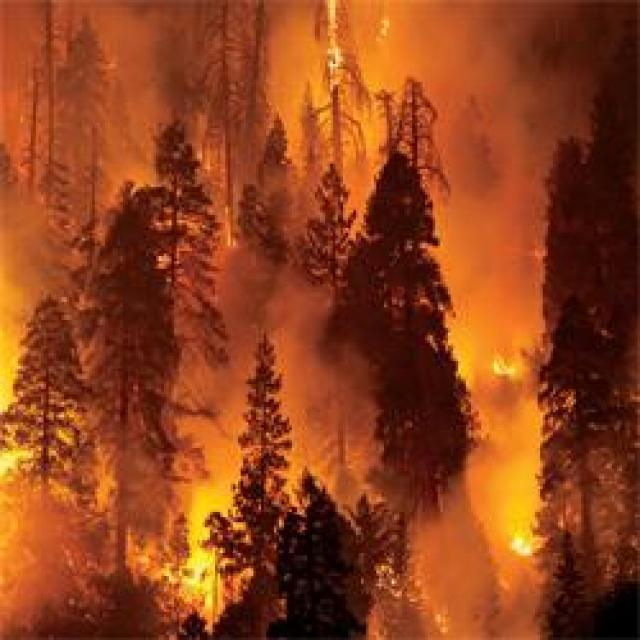Fire: (0, 325, 26, 499), (164, 540, 220, 606), (322, 2, 346, 82), (486, 354, 528, 384), (502, 530, 549, 555)
Smoke: (10, 0, 576, 637)
